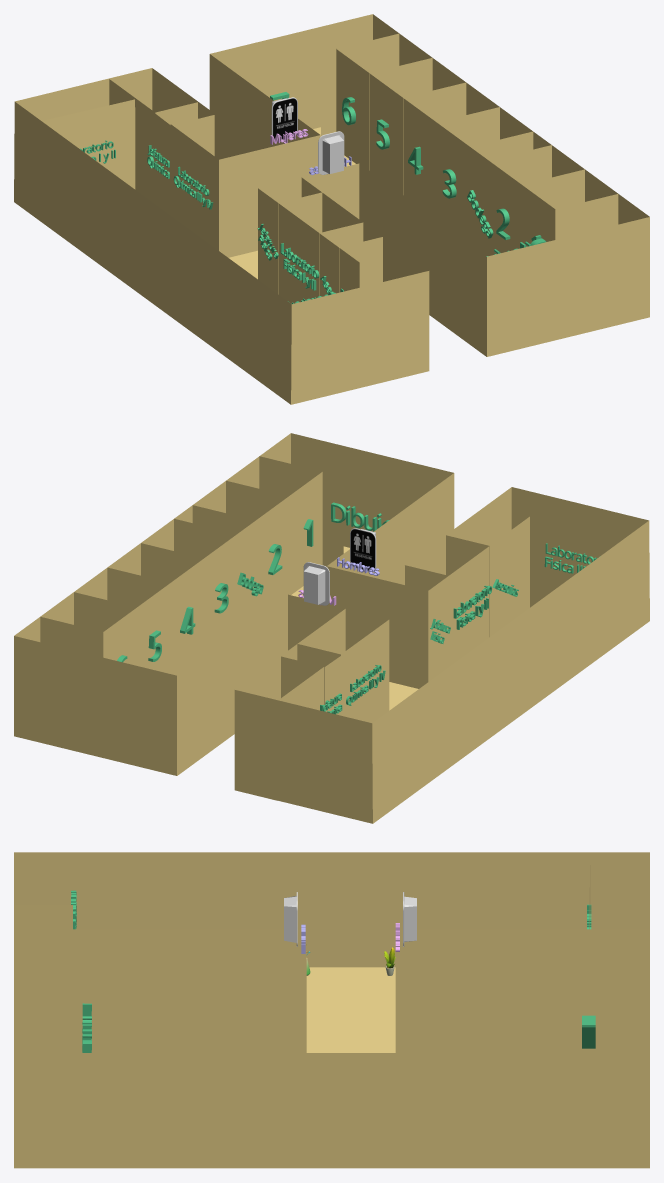
File: Piso3.glb
3 views of the same model, one above another, from view 1: azimuth 30°, elevation 25°; view 2: azimuth 150°, elevation 25°; view 3: azimuth 270°, elevation 25° (orthographic). The views are drawn at different scales.
Visible parts, largest first — view 1: Plane - baked, Box - baked 23, Box - baked 13, Box - baked 2, Box - baked 3, Box - baked 1, Box - baked 22, Box - baked 4, Box - baked 5, Box - baked 17, Box - baked 6, Box - baked 14 (+6 smaller); view 2: Plane - baked, Merged Objects, Box - baked 7, Box - baked 4, Box - baked 3, Box - baked 6, Box - baked 23, Box - baked 5, Box - baked 17, Box - baked 16, Box - baked 2, Box - baked 14 (+6 smaller); view 3: Plane - baked, Box - baked 16, RestroomSign (×2), 3D Text 6 - 7.
Part boxes in pixels (box(x1,y1,x2,y2)): Plane - baked: box(14, 14, 649, 404); Box - baked 23: box(170, 124, 262, 257); Box - baked 13: box(237, 33, 399, 136); Box - baked 2: box(369, 73, 466, 194); Box - baked 3: box(403, 98, 499, 219); Box - baked 1: box(336, 49, 432, 170); Box - baked 22: box(42, 99, 135, 189); Box - baked 4: box(436, 123, 533, 243); Box - baked 5: box(488, 161, 584, 255); Box - baked 17: box(278, 203, 363, 303); Box - baked 6: box(522, 185, 618, 246); Box - baked 14: box(470, 145, 551, 255); Plane - baked: box(14, 433, 649, 823); Merged Objects: box(384, 576, 448, 688); Box - baked 7: box(259, 456, 421, 566); Box - baked 4: box(141, 534, 237, 655); Box - baked 3: box(107, 559, 203, 675); Box - baked 6: box(226, 472, 322, 595); Box - baked 23: box(297, 620, 389, 722); Box - baked 5: box(192, 496, 289, 617); Box - baked 17: box(405, 546, 489, 666); Box - baked 16: box(530, 516, 622, 607); Box - baked 2: box(74, 583, 170, 673); Box - baked 14: box(174, 518, 255, 631); Plane - baked: box(14, 852, 649, 1168); Box - baked 16: box(14, 905, 72, 929); RestroomSign (×2): box(284, 892, 416, 946); 3D Text 6 - 7: box(582, 1015, 595, 1048).
Bounding box in the file's own units: 0.3744 × 0.1426 × 0.5.
Materials: 65 (16 with a texture image).
